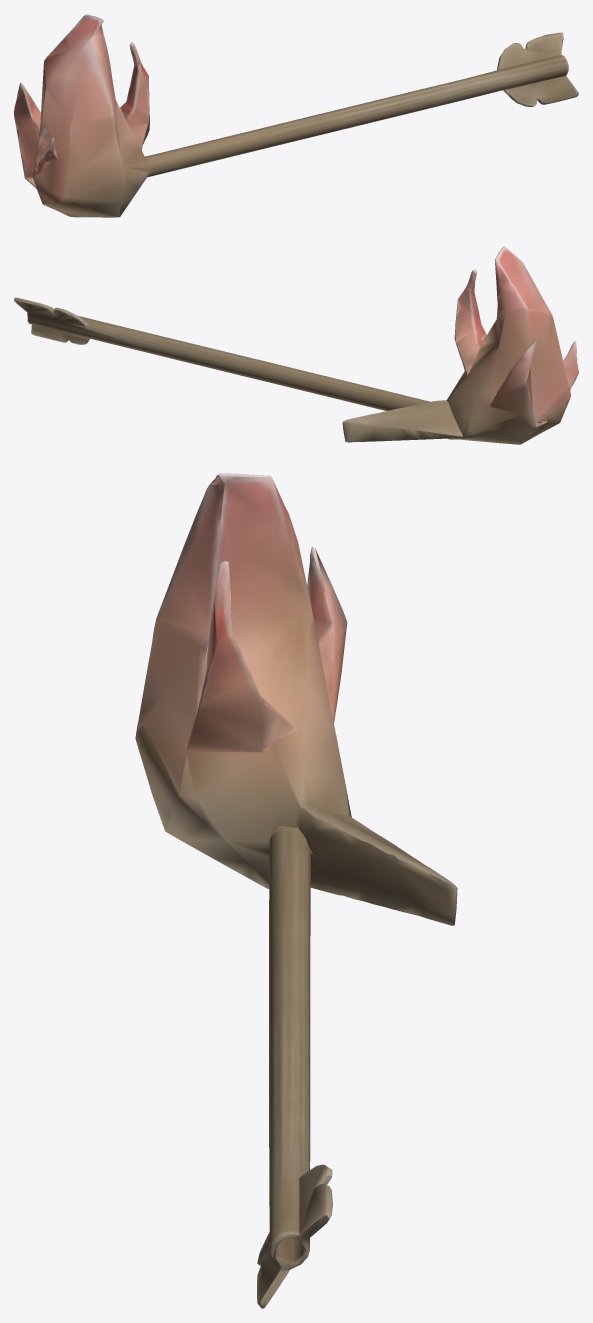
The model's file is 角色武器_日本巫女_火焰箭.glb.
3 renders of one model, top to bottom at view 1: azimuth 30°, elevation 25°; view 2: azimuth 150°, elevation 25°; view 3: azimuth 270°, elevation 25°, orthographic. The views are drawn at different scales.
Visible parts, largest first — view 1: geometry_0; view 2: geometry_0; view 3: geometry_0.
Part boxes in pixels (x1=…): geometry_0: x1=14, y1=14, x2=578, y2=217; geometry_0: x1=14, y1=246, x2=578, y2=444; geometry_0: x1=135, y1=473, x2=457, y2=1308.
Size of the model in its own units: 1 by 0.3491 by 0.2636.
Materials: 1 (1 with a texture image).
